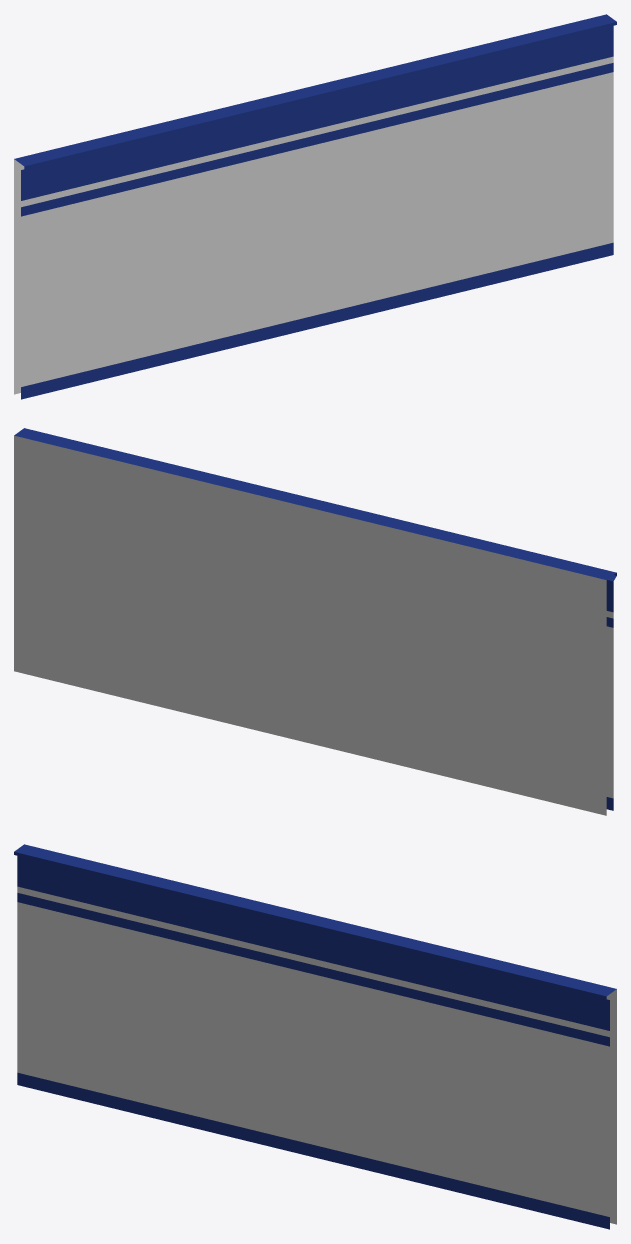
File: wall_1_10x3_8.glb
The picture shows the model from 3 angles, top to bottom: view 1: azimuth 30°, elevation 25°; view 2: azimuth 150°, elevation 25°; view 3: azimuth 330°, elevation 25°; orthographic projection.
Visible parts, largest first — view 1: Cube; view 2: Cube; view 3: Cube.
Part boxes in pixels (bbox=[...]): Cube: bbox=[14, 14, 616, 399]; Cube: bbox=[14, 428, 616, 815]; Cube: bbox=[14, 844, 616, 1229].
Bounding box in the file's own units: 10 × 3.8 × 0.3.
